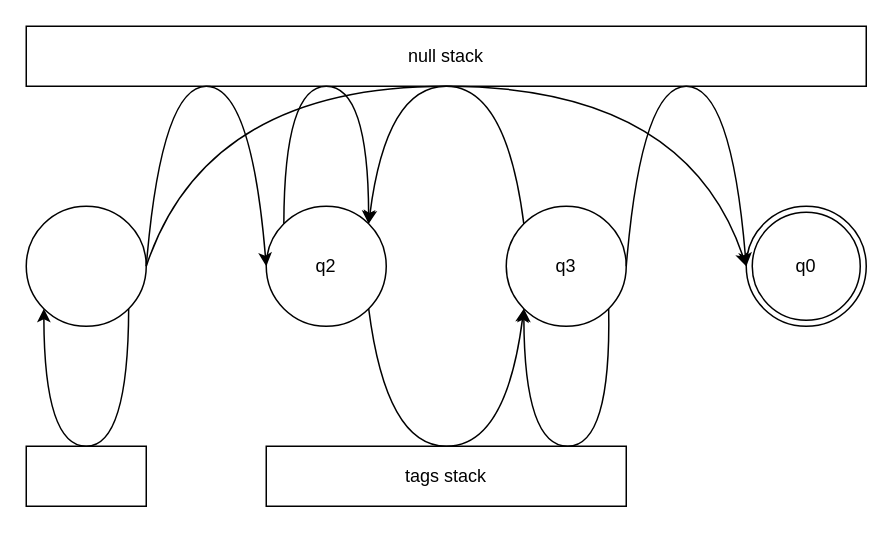
Some shapes in this 893 by 533 pixel diagram are drawn without their labels. Here are the shapes that lost their labels. From the top down, the centre of each, then its label:
point (85, 265): q1
point (85, 475): url stack
